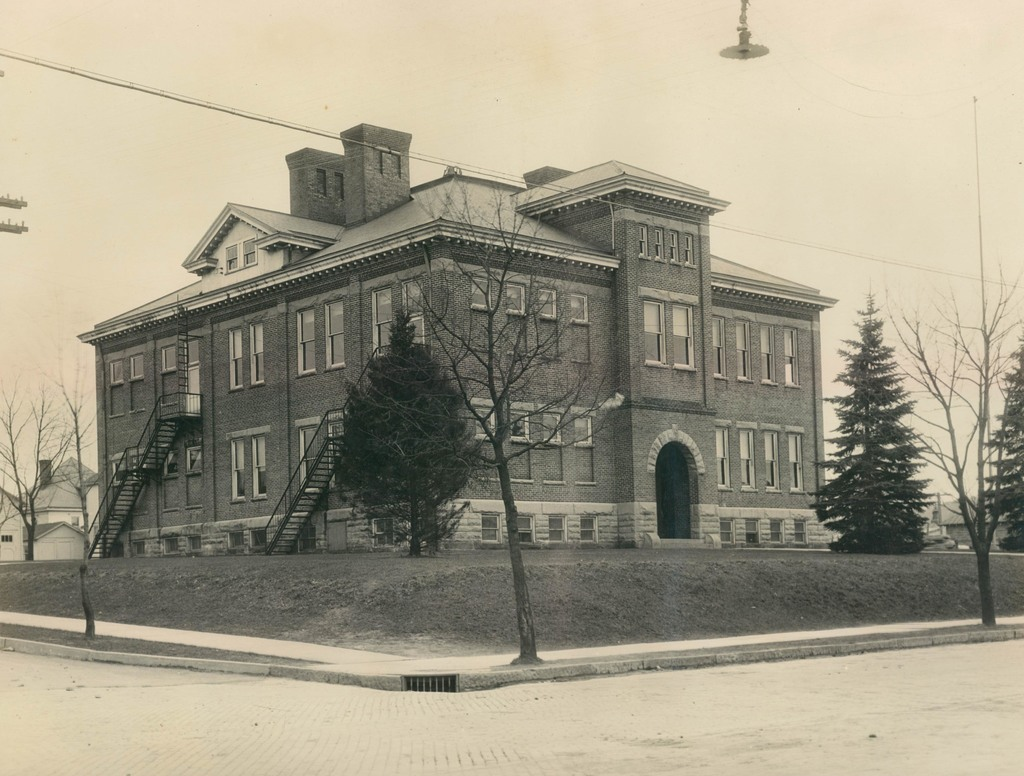Tree: (465, 69, 1023, 657), (0, 418, 264, 612), (830, 299, 949, 580)
